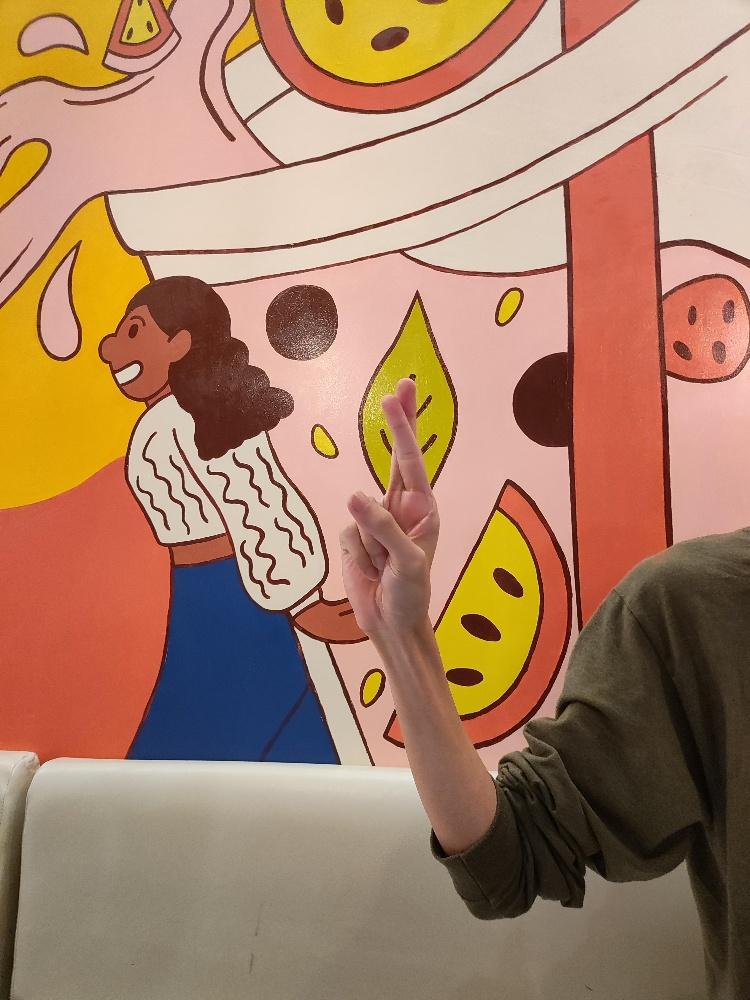r: (334, 374, 442, 632)
